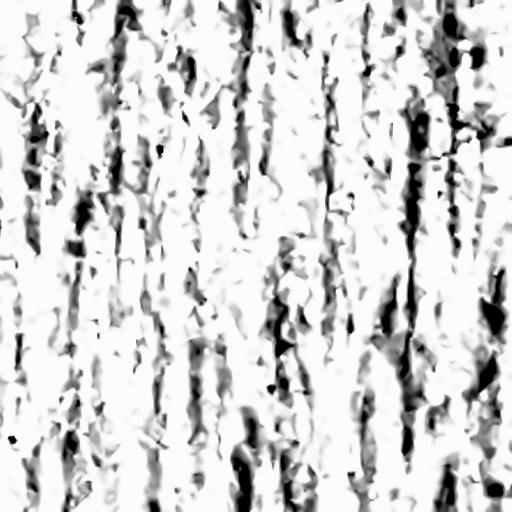egg: (277, 340, 293, 356), (445, 15, 456, 33)
